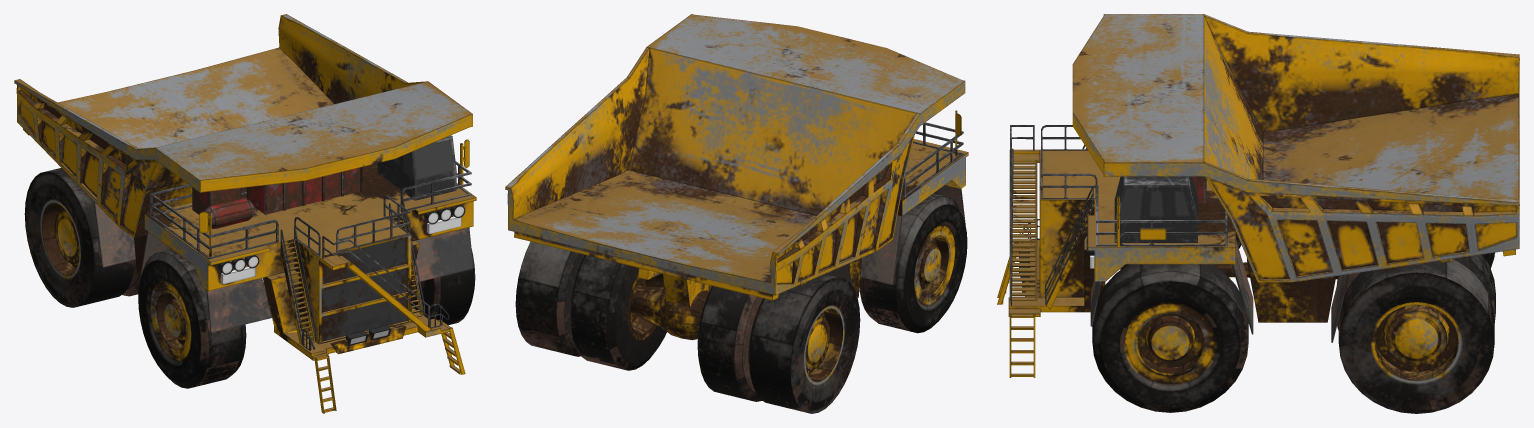
File: free_old_mine_dump_truck.glb
3 renders of one model, left to right at view 1: azimuth 30°, elevation 25°; view 2: azimuth 150°, elevation 25°; view 3: azimuth 270°, elevation 25°, orthographic. The views are drawn at different scales.
Visible parts, largest first — view 1: dumper; view 2: dumper; view 3: dumper.
Boxes of the visible parts, bbox=[...] form: dumper: bbox=[14, 14, 476, 413]; dumper: bbox=[505, 14, 968, 413]; dumper: bbox=[997, 14, 1519, 413].
Bounding box in the file's own units: 8.59 × 6.69 × 12.53.
1 material, 1 textured.
